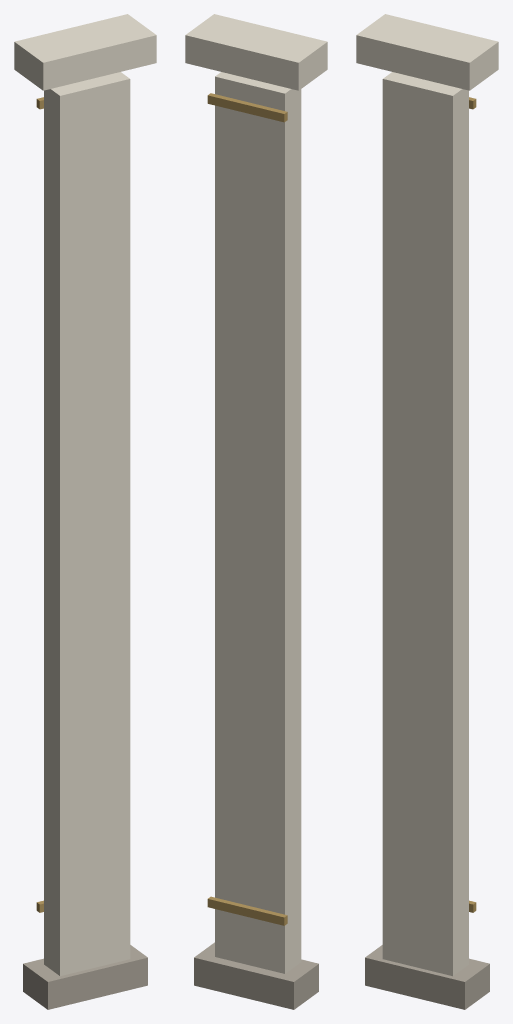
File: VIC_A02_PILASTER_Roblox.fbx
The picture shows the model from 3 angles, left to right: view 1: azimuth 30°, elevation 25°; view 2: azimuth 150°, elevation 25°; view 3: azimuth 330°, elevation 25°; orthographic projection.
Parts seen in each view (by area): view 1: VIC_A02_PILASTER__Ivory, VIC_A02_PILASTER__Stone; view 2: VIC_A02_PILASTER__Ivory, VIC_A02_PILASTER__Stone, VIC_A02_PILASTER__Brass; view 3: VIC_A02_PILASTER__Ivory, VIC_A02_PILASTER__Stone.
Part boxes in pixels (x1,y1,x2,y2): VIC_A02_PILASTER__Ivory: [14, 14, 156, 976]; VIC_A02_PILASTER__Stone: [23, 945, 147, 1009]; VIC_A02_PILASTER__Ivory: [185, 14, 327, 973]; VIC_A02_PILASTER__Stone: [194, 942, 318, 1009]; VIC_A02_PILASTER__Brass: [207, 93, 287, 925]; VIC_A02_PILASTER__Ivory: [356, 14, 498, 976]; VIC_A02_PILASTER__Stone: [365, 945, 489, 1009].
Bounding box in the file's own units: 1.7 × 13.6 × 0.75.
